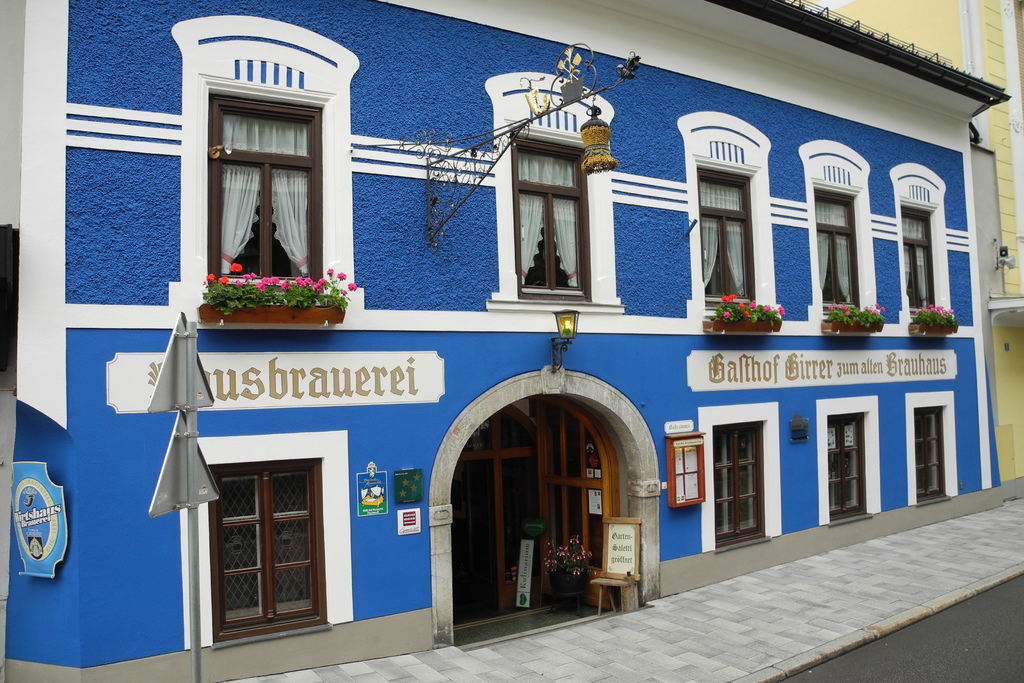Door: (461, 460, 499, 613), (978, 145, 1001, 299)
